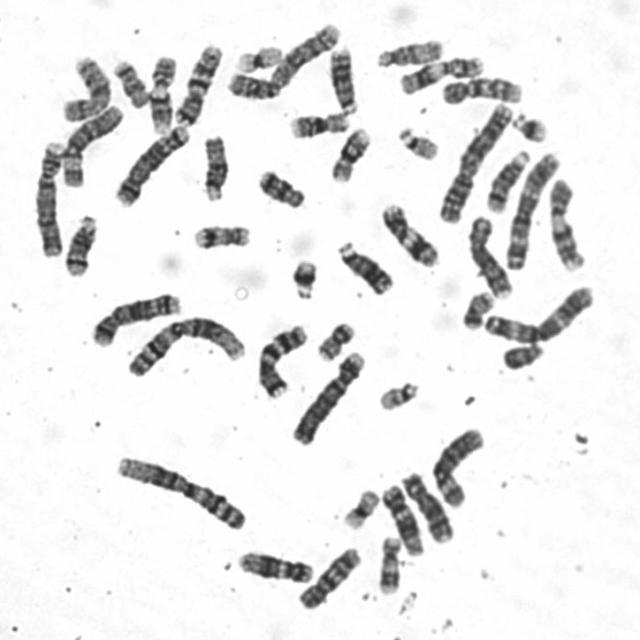A1: (110, 448, 249, 533), (121, 309, 248, 380)
A2: (435, 96, 516, 225), (222, 16, 343, 102)
A3: (478, 279, 598, 346), (500, 145, 563, 272)
B4: (286, 345, 368, 446), (30, 136, 66, 258)
B5: (110, 119, 191, 208), (86, 286, 184, 348)
C10: (292, 541, 363, 612), (436, 70, 525, 106)
C11: (375, 197, 442, 268), (394, 49, 486, 96)
C12: (378, 479, 426, 557), (232, 545, 314, 585)
C6: (56, 99, 126, 189), (425, 422, 487, 511)
C7: (168, 39, 224, 127), (251, 318, 310, 400)
C8: (396, 464, 457, 546), (462, 210, 516, 300)
C9: (544, 173, 588, 273), (143, 50, 179, 135)
D13: (332, 235, 396, 296), (324, 41, 361, 116)
D14: (482, 144, 533, 214), (58, 209, 99, 278)
D15: (370, 34, 446, 68), (196, 130, 229, 203)
E16: (326, 122, 373, 184), (284, 106, 351, 140)
E17: (187, 218, 252, 251), (372, 530, 403, 596)
E18: (252, 163, 307, 211), (108, 53, 150, 109)
F19: (338, 483, 382, 531), (230, 39, 284, 74)
F20: (311, 315, 357, 362), (456, 286, 497, 332)
G21: (507, 106, 551, 144), (286, 253, 319, 300)
G22: (393, 121, 441, 162), (373, 374, 421, 412)
X: (55, 51, 113, 122)
Y: (497, 337, 546, 371)
